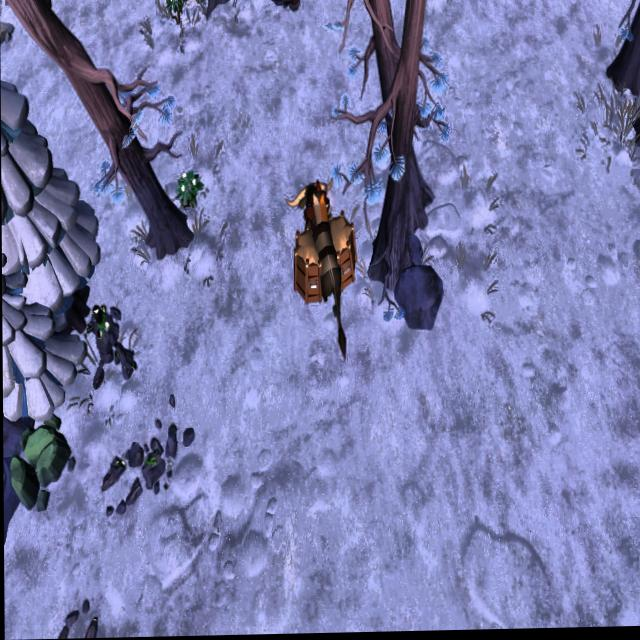fiber_t3: (176, 166, 202, 215), (165, 0, 188, 26)
rock_t3: (10, 401, 74, 520)
